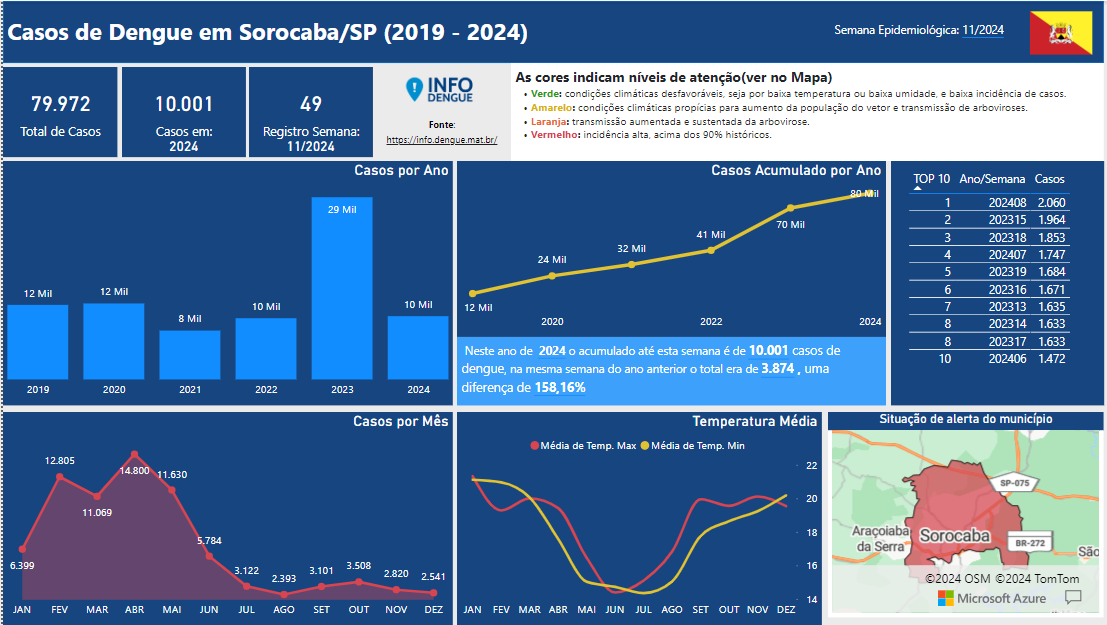

The page's visual inventory and layout, read from the dashboard file:
{"tool":"powerbi","page":{"name":"Dados Dengue Sorocaba","canvas":[1280,720],"ordinal":0},"visuals":[{"type":"shape","box":[426.9,71.5,159.2,113.1],"z":0},{"type":"shape","box":[0,0,1270.1,71.6],"z":1000},{"type":"image","box":[1162.3,6.4,117.5,59.8],"z":2000},{"type":"textbox","box":[0,11.8,639.9,59.8],"z":3000},{"type":"card","fields":{"Values":["Medidas.01 Total de Casos"]},"box":[0,75.8,132.5,103.6],"z":4000},{"type":"columnChart","title":"Casos por Ano","fields":{"Y":["Medidas.01 Total de Casos"],"Category":["dAno.Ano"]},"box":[0,184.8,519.2,282],"z":5000},{"type":"card","fields":{"Values":["Medidas.04 Total de Casos Ano Selecionado"]},"box":[136.7,75.8,143.1,103.6],"z":6000},{"type":"card","fields":{"Values":["Medidas.09 Ano Selecionado"]},"box":[168.8,149.6,80.1,37.4],"z":7000},{"type":"lineChart","fields":{"Category":["dAno.Ano"],"Y":["Medidas.02 Total de Casos Acumulado"]},"box":[523.4,184.8,494.6,203],"z":7000,"group":"g1"},{"type":"textbox","box":[523.4,387.8,494.6,79.1],"z":7503,"group":"g1"},{"type":"textbox","box":[951.3,19.3,222.1,42.4],"z":8000},{"type":"group","id":"g1","title":"Grupo 1","box":[523.4,184.8,494.6,282],"z":9000},{"type":"tableEx","fields":{"Values":["Medidas.03 Ranking SE Total de Casos","dSE.SE","Medidas.01 Total de Casos"]},"box":[1024.5,184.8,245.7,282],"z":10000},{"type":"card","fields":{"Values":["Medidas.05 Total ultima semana"]},"box":[284.2,75.8,143.1,103.6],"z":11000},{"type":"card","fields":{"Values":["Medidas.11 Semana Epidemiológica"]},"box":[313,153.8,84.4,31],"z":12000},{"type":"areaChart","title":"Casos por Mês","fields":{"Category":["dSE.Nome Mês","dSE.Trimestre"],"Y":["Medidas.01 Total de Casos"]},"box":[0,474.3,519.2,245.7],"z":13000},{"type":"lineChart","title":"Temperatura Média","fields":{"Category":["dSE.Nome Mês"],"Y":["Avg(fDengue.tempmax)"],"Y2":["Avg(fDengue.tempmin)"]},"box":[523.4,474.3,420.9,245.7],"z":14000},{"type":"filledMap","title":"Situação de alerta do município","fields":{"Category":["dLocal.Cidade"]},"box":[951.8,474.3,318.3,237.2],"z":15000},{"type":"textbox","box":[586.5,71.6,683.7,113.2],"z":16000},{"type":"textbox","box":[427.3,128.2,159.2,56.6],"z":17000},{"type":"image","box":[444.4,74.8,113.2,54.5],"z":18000},{"type":"card","fields":{"Values":["Medidas.14 Primero Ano e Ultimo"]},"box":[0,149.4,132.4,37.3],"z":19000}]}

Visuals, with their boxes in screenshot pixels (x1, y1, x2, y2), scaled from the page's 1280x720 canvas onto the 1107x625 screenshot:
shape: 369, 62, 507, 160
shape: 0, 0, 1098, 62
image: 1005, 6, 1106, 57
textbox: 0, 10, 553, 62
card - Medidas.01 Total de Casos: 0, 66, 115, 156
"Casos por Ano" columnChart: 0, 160, 449, 405
card - Medidas.04 Total de Casos Ano Selecionado: 118, 66, 242, 156
card - Medidas.09 Ano Selecionado: 146, 130, 215, 162
lineChart - dAno.Ano x Medidas.02 Total de Casos Acumulado: 453, 160, 880, 337
textbox: 453, 337, 880, 405
textbox: 823, 17, 1015, 54
"Grupo 1" group: 453, 160, 880, 405
tableEx - Medidas.03 Ranking SE Total de Casos x dSE.SE: 886, 160, 1099, 405
card - Medidas.05 Total ultima semana: 246, 66, 370, 156
card - Medidas.11 Semana Epidemiológica: 271, 134, 344, 160
"Casos por Mês" areaChart: 0, 412, 449, 624
"Temperatura Média" lineChart: 453, 412, 817, 624
"Situação de alerta do município" filledMap: 823, 412, 1098, 618
textbox: 507, 62, 1099, 160
textbox: 370, 111, 507, 160
image: 384, 65, 482, 112
card - Medidas.14 Primero Ano e Ultimo: 0, 130, 115, 162
